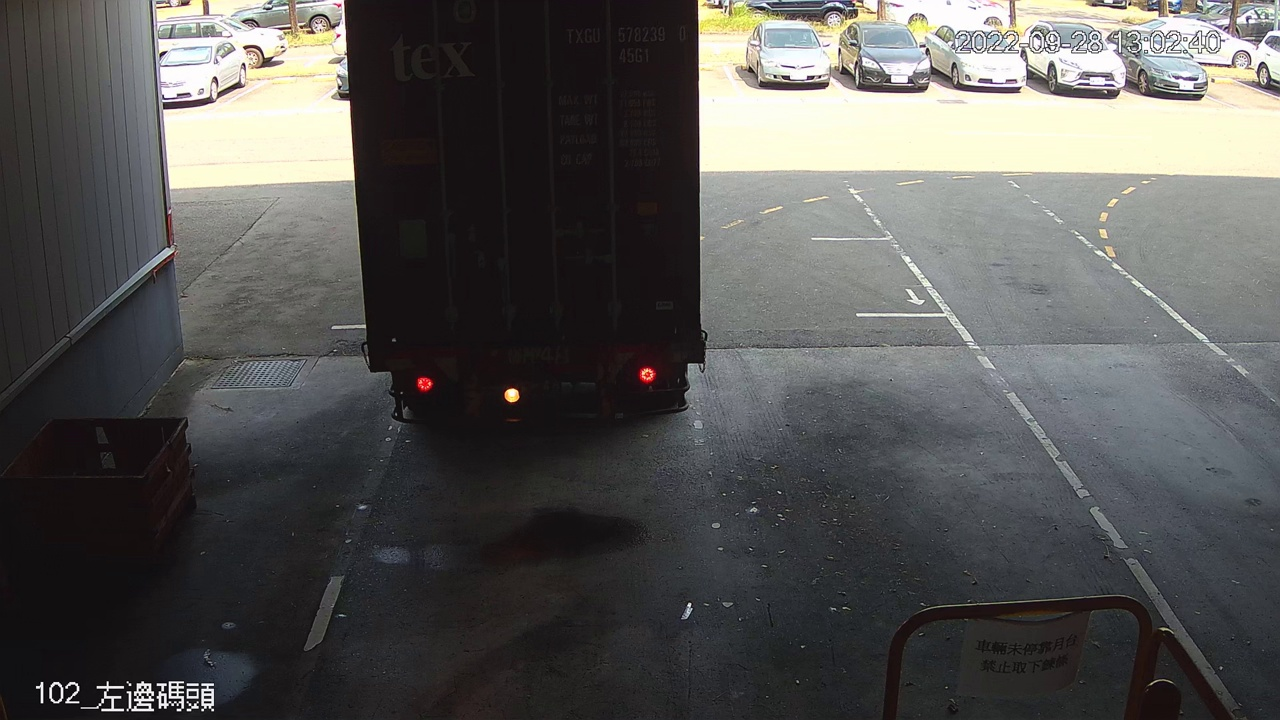container: (558, 19, 691, 67)
